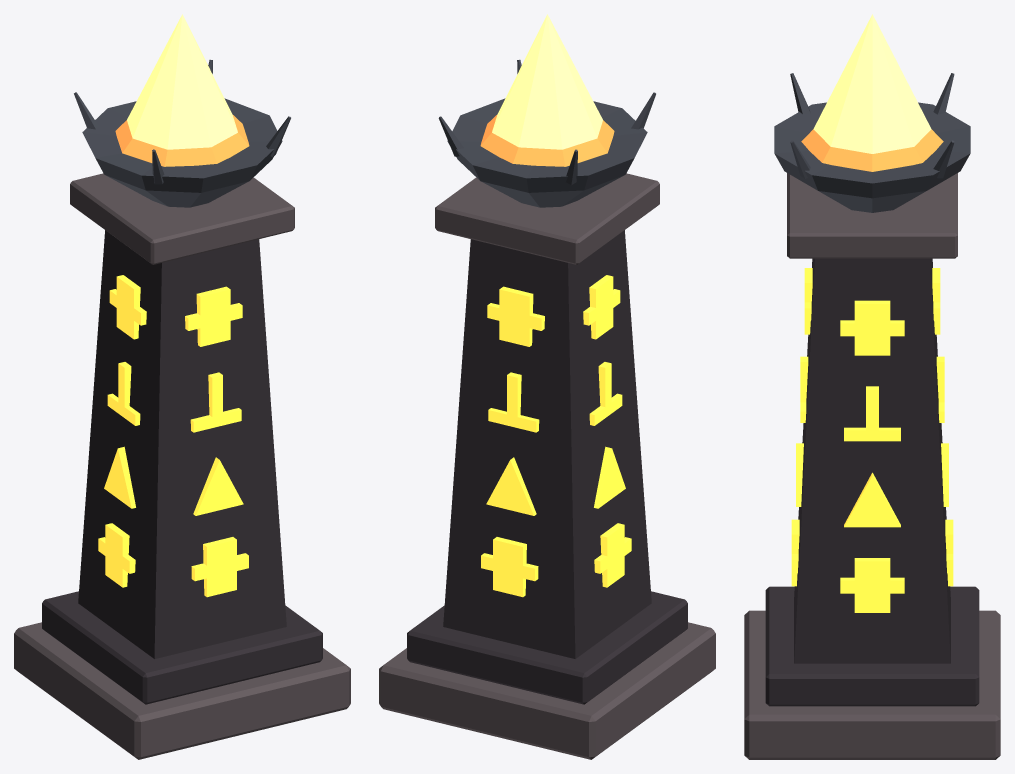
Rendered from FirePillar.fbx.
3 views of the same model, side by side, from view 1: azimuth 30°, elevation 25°; view 2: azimuth 150°, elevation 25°; view 3: azimuth 270°, elevation 25° (orthographic). The views are drawn at different scales.
Parts seen in each view (by area): view 1: FirePillar_Basalt, FirePillar_BasaltLight, FirePillar_Lava, FirePillar_DarkMetal, FirePillar_Fire, FirePillar_Ember; view 2: FirePillar_Basalt, FirePillar_BasaltLight, FirePillar_Lava, FirePillar_DarkMetal, FirePillar_Fire, FirePillar_Ember; view 3: FirePillar_Basalt, FirePillar_BasaltLight, FirePillar_Lava, FirePillar_DarkMetal, FirePillar_Fire, FirePillar_Ember.
Part boxes in pixels (x1,y1,x2,y2): FirePillar_Basalt: (42,230,322,704); FirePillar_BasaltLight: (14,173,350,759); FirePillar_Lava: (98,275,248,597); FirePillar_DarkMetal: (74,59,290,207); FirePillar_Fire: (127,14,237,149); FirePillar_Ember: (115,115,249,166); FirePillar_Basalt: (407,230,687,704); FirePillar_BasaltLight: (379,173,715,759); FirePillar_Lava: (481,275,631,597); FirePillar_DarkMetal: (438,59,655,207); FirePillar_Fire: (492,14,602,149); FirePillar_Ember: (480,115,614,166); FirePillar_Basalt: (765,258,979,706); FirePillar_BasaltLight: (744,173,1000,759); FirePillar_Lava: (791,268,953,612); FirePillar_DarkMetal: (774,73,970,212); FirePillar_Fire: (813,14,931,153); FirePillar_Ember: (801,129,943,171).
Bounding box in the file's own units: 7.2 × 21.5 × 7.2.
